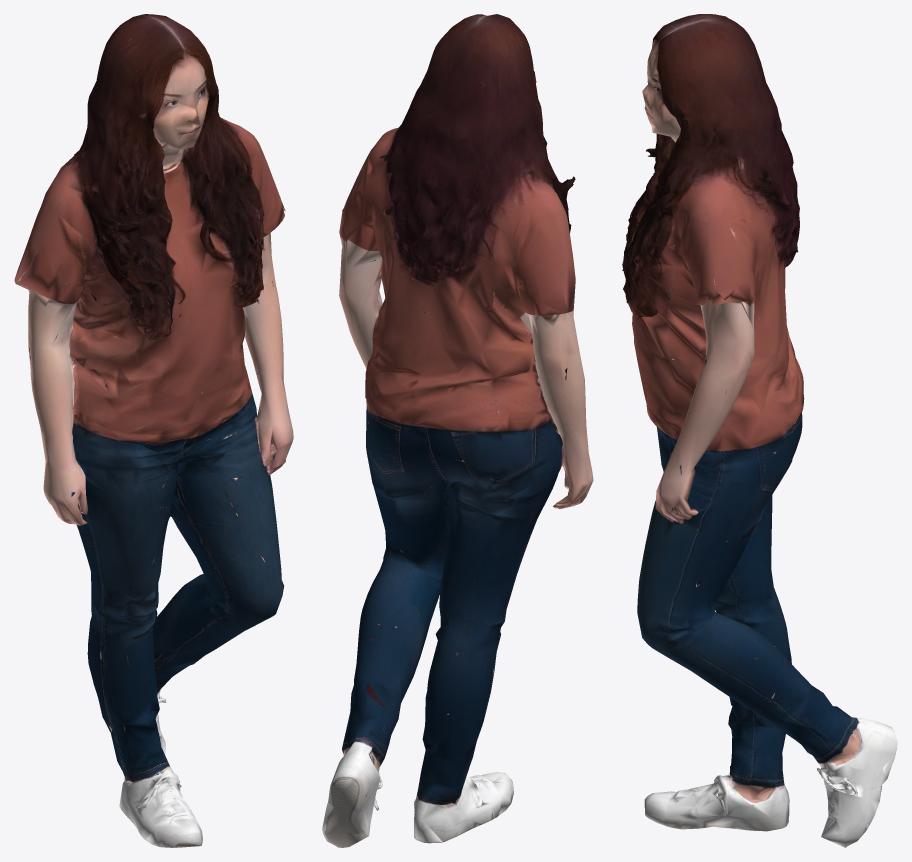
File: person1.glb
3 renders of one model, left to right at view 1: azimuth 30°, elevation 25°; view 2: azimuth 150°, elevation 25°; view 3: azimuth 270°, elevation 25°, orthographic. The views are drawn at different scales.
Parts seen in each view (by area): view 1: Object_5; view 2: Object_5; view 3: Object_5.
Boxes of the visible parts, x1,y1,x2,y2 form: Object_5: [14, 14, 293, 847]; Object_5: [322, 14, 593, 847]; Object_5: [622, 14, 897, 847].
Size of the model in its own units: 0.6117 by 1.9 by 0.5931.
1 material, 1 textured.
